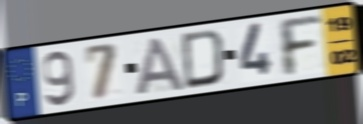4: (238, 19, 278, 82)
7: (82, 40, 123, 104)
9: (40, 49, 77, 109)
A: (134, 36, 188, 97)
D: (180, 27, 227, 91)
F: (274, 14, 325, 79)
